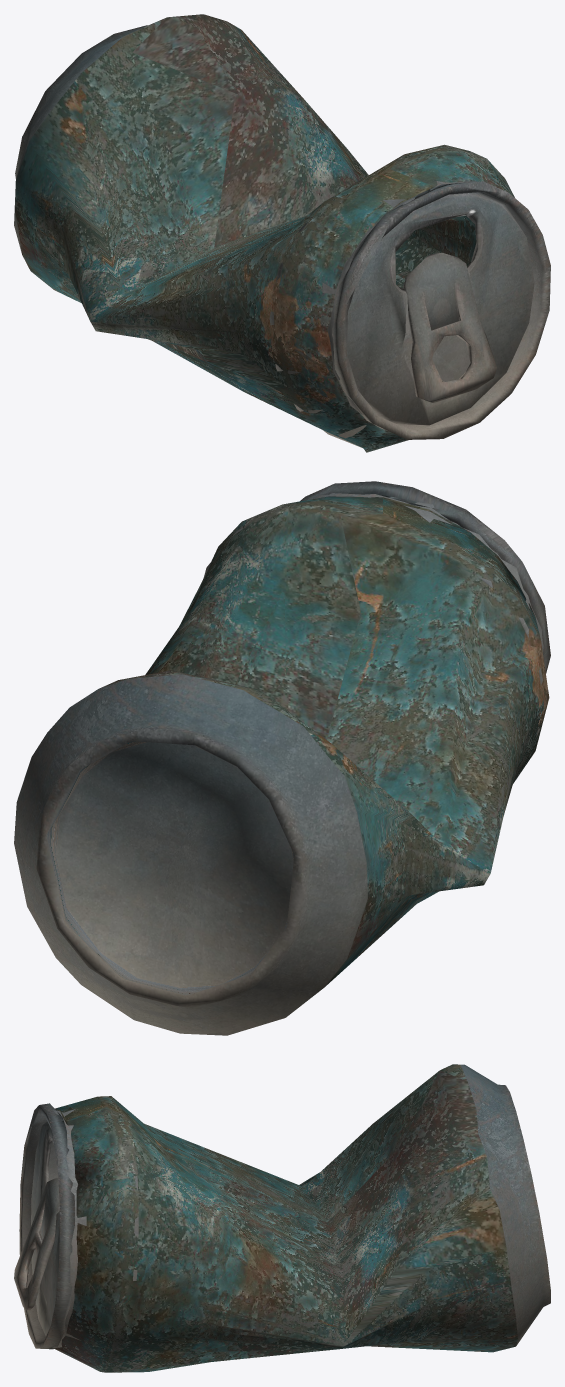
Rendered from TinCan.fbx.
The picture shows the model from 3 angles, top to bottom: view 1: azimuth 30°, elevation 25°; view 2: azimuth 150°, elevation 25°; view 3: azimuth 270°, elevation 25°; orthographic projection. The views are drawn at different scales.
Parts seen in each view (by area): view 1: TinCan; view 2: TinCan; view 3: TinCan.
Part boxes in pixels (x1,y1,x2,y2): TinCan: (14,14,550,452); TinCan: (14,481,550,1035); TinCan: (14,1064,550,1372).
Bounding box in the file's own units: 129 × 103 × 189.
